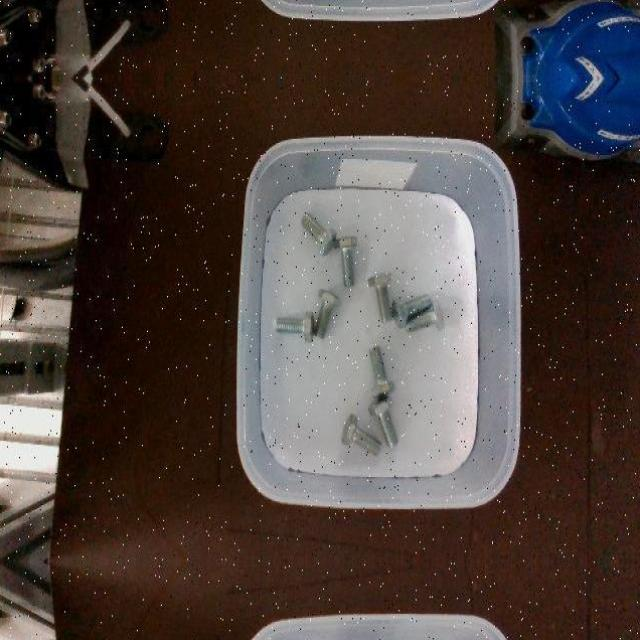screw: (341, 414, 383, 456), (300, 211, 336, 257), (368, 397, 398, 448), (368, 344, 396, 398), (391, 293, 433, 327), (402, 298, 445, 331), (314, 288, 340, 338), (276, 311, 315, 343), (368, 270, 392, 322), (333, 236, 357, 286)
